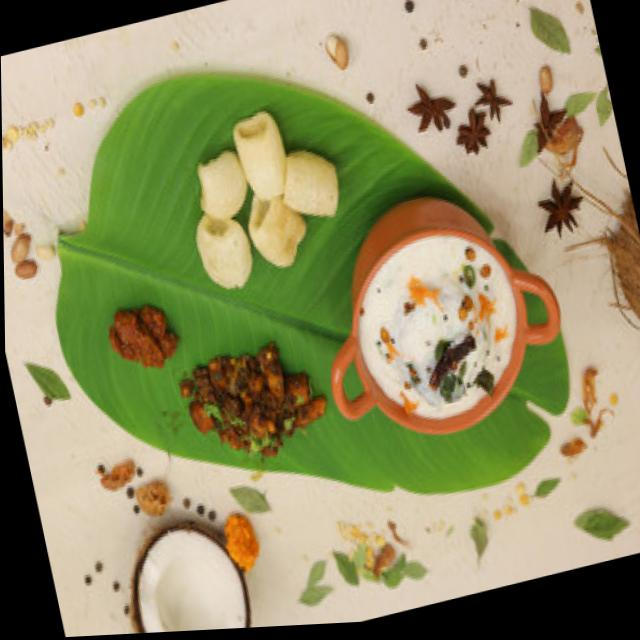CURD RICE: (356, 234, 520, 422)
PAPADAM: (194, 111, 341, 294)
PICKLE: (110, 300, 182, 375)
VEGGIES: (181, 340, 328, 465)
